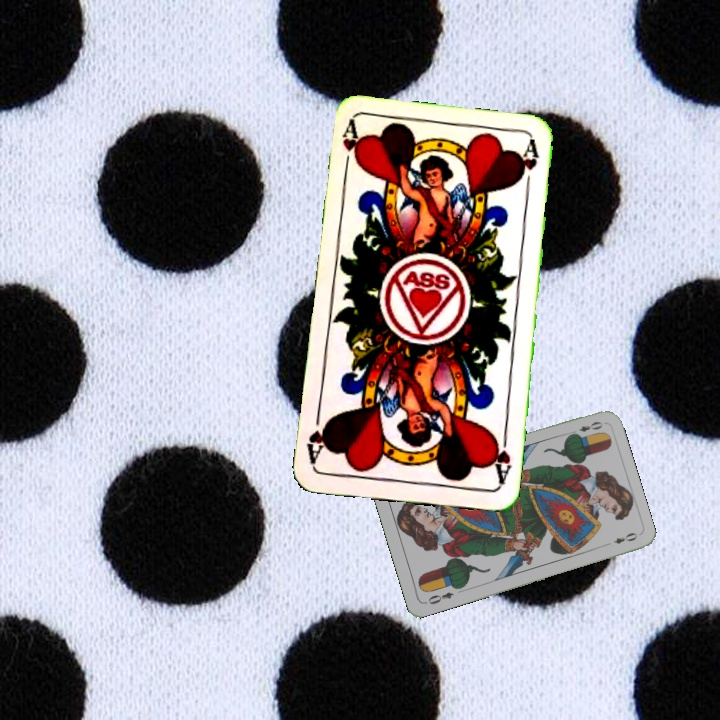EO: (566, 417, 605, 438), (424, 588, 456, 607)
HA: (487, 428, 514, 487), (338, 119, 364, 178)
